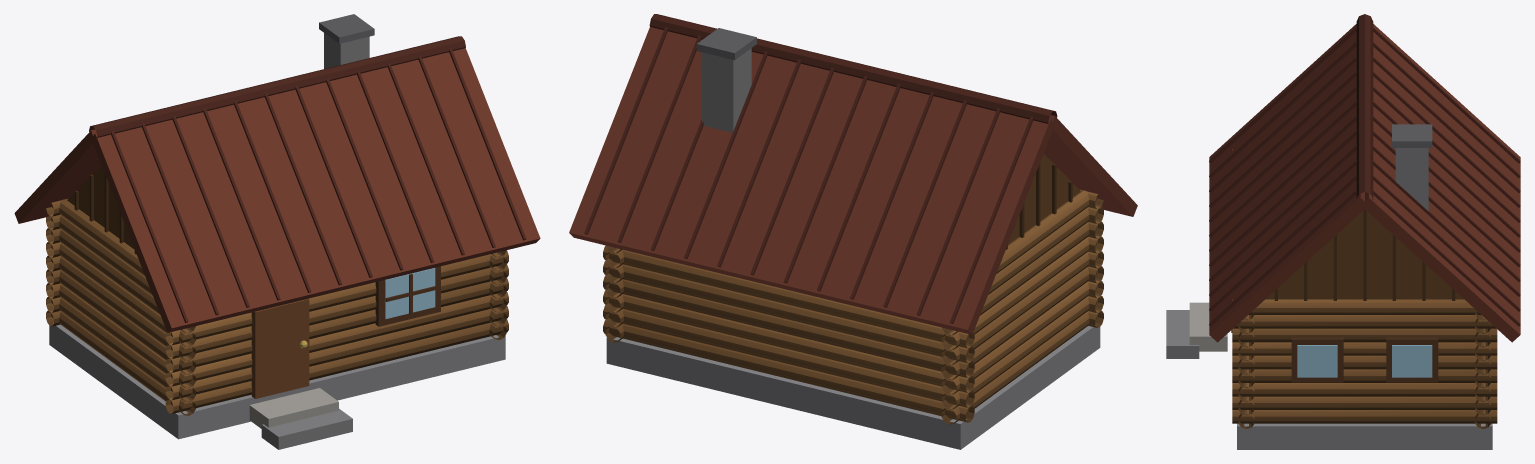
Rendered from Mtn_Hut.fbx.
3 renders of one model, left to right at view 1: azimuth 30°, elevation 25°; view 2: azimuth 150°, elevation 25°; view 3: azimuth 270°, elevation 25°, orthographic. The views are drawn at different scales.
Visible parts, largest first — view 1: Mtn_Hut; view 2: Mtn_Hut; view 3: Mtn_Hut.
Boxes of the visible parts, x1=… form: Mtn_Hut: x1=14, y1=14, x2=540, y2=449; Mtn_Hut: x1=569, y1=14, x2=1137, y2=449; Mtn_Hut: x1=1166, y1=14, x2=1520, y2=449.
Bounding box in the file's own units: 17.8 × 13.2 × 14.99.
